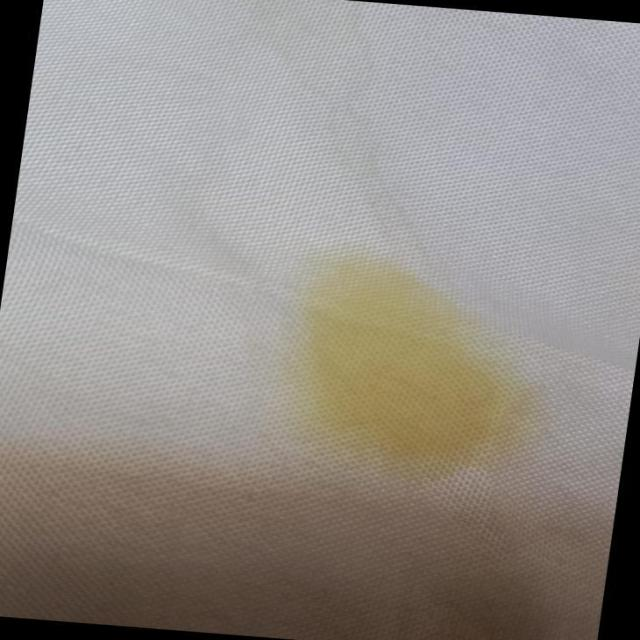stain: (265, 236, 551, 495)
